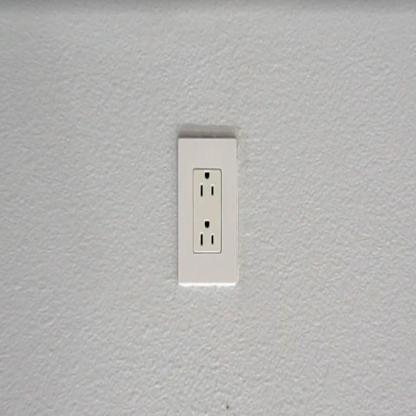OUTLET: (177, 132, 239, 288)
